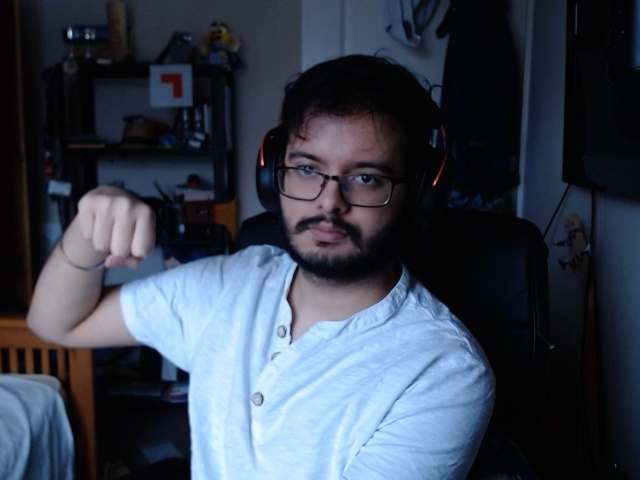Yes: (75, 175, 163, 279)
